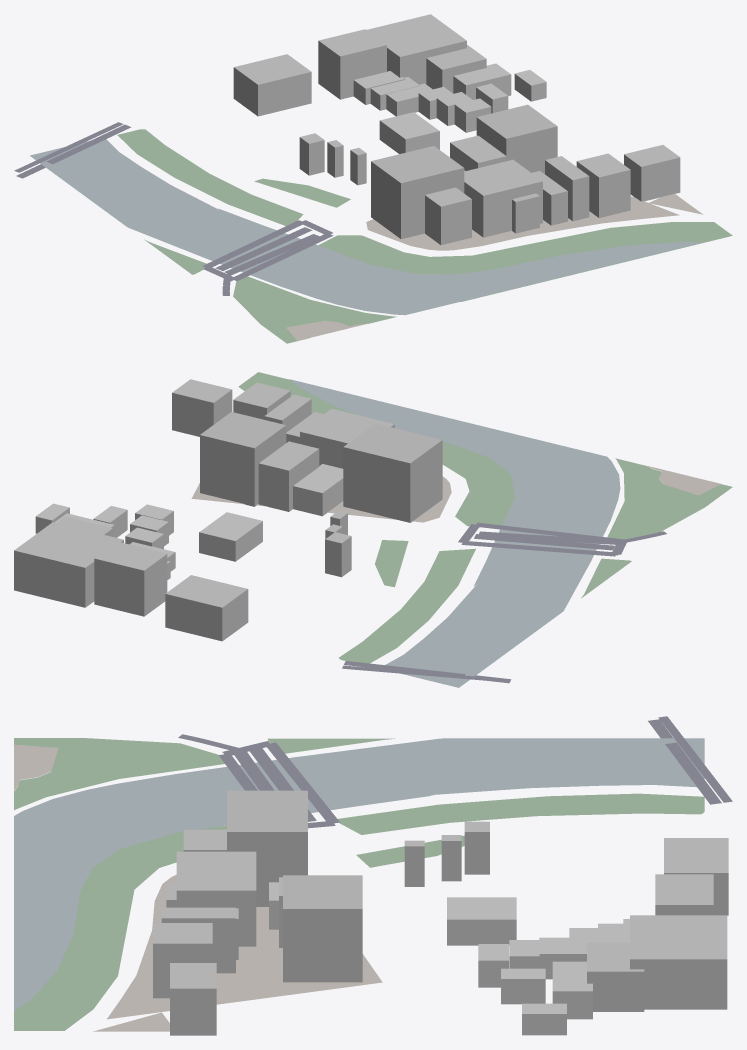
File: 122_85_mid.glb
3 views of the same model, one above another, from view 1: azimuth 30°, elevation 25°; view 2: azimuth 150°, elevation 25°; view 3: azimuth 270°, elevation 25° (orthographic). The views are drawn at different scales.
Size of the model in its own units: 541 by 61.82 by 520.
